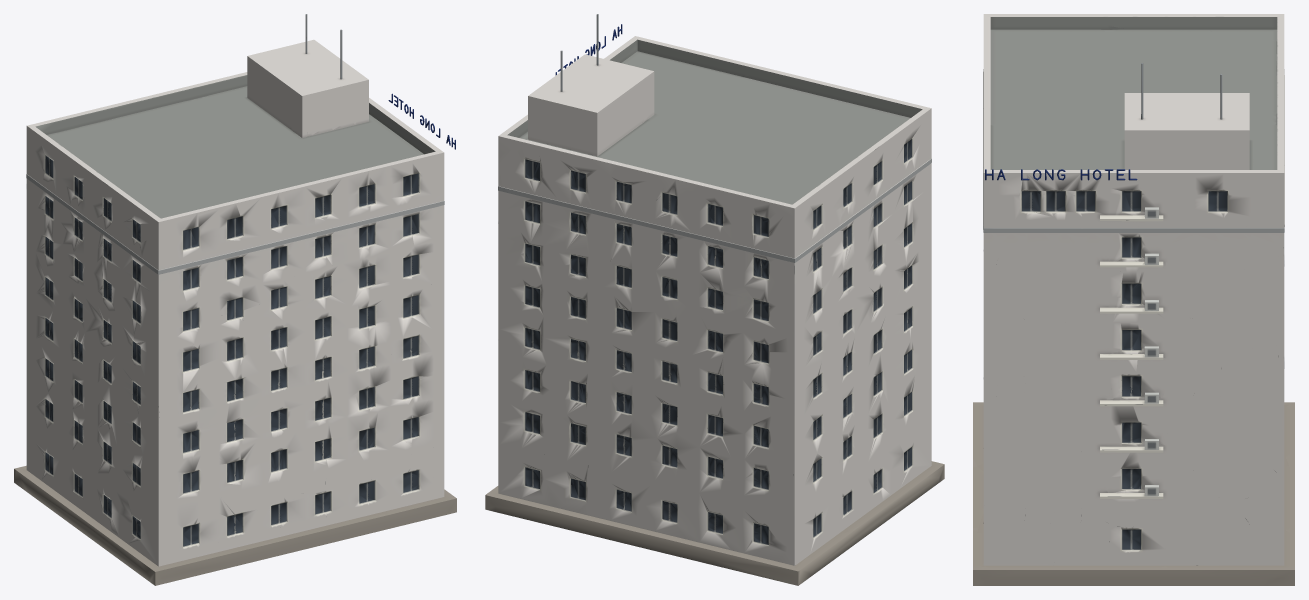
Rendered from nha_khach_ha_long.glb.
The picture shows the model from 3 angles, left to right: view 1: azimuth 30°, elevation 25°; view 2: azimuth 150°, elevation 25°; view 3: azimuth 270°, elevation 25°; orthographic projection. The views are drawn at different scales.
Visible parts, largest first — view 1: nha_khach_ha_long; view 2: nha_khach_ha_long; view 3: nha_khach_ha_long.
Boxes of the visible parts, <box> form: nha_khach_ha_long: <box>14,14,456,585</box>; nha_khach_ha_long: <box>485,14,944,585</box>; nha_khach_ha_long: <box>973,14,1294,585</box>.
Bounding box in the file's own units: 22.9 × 31.3 × 18.27.
3 materials, 3 textured.
